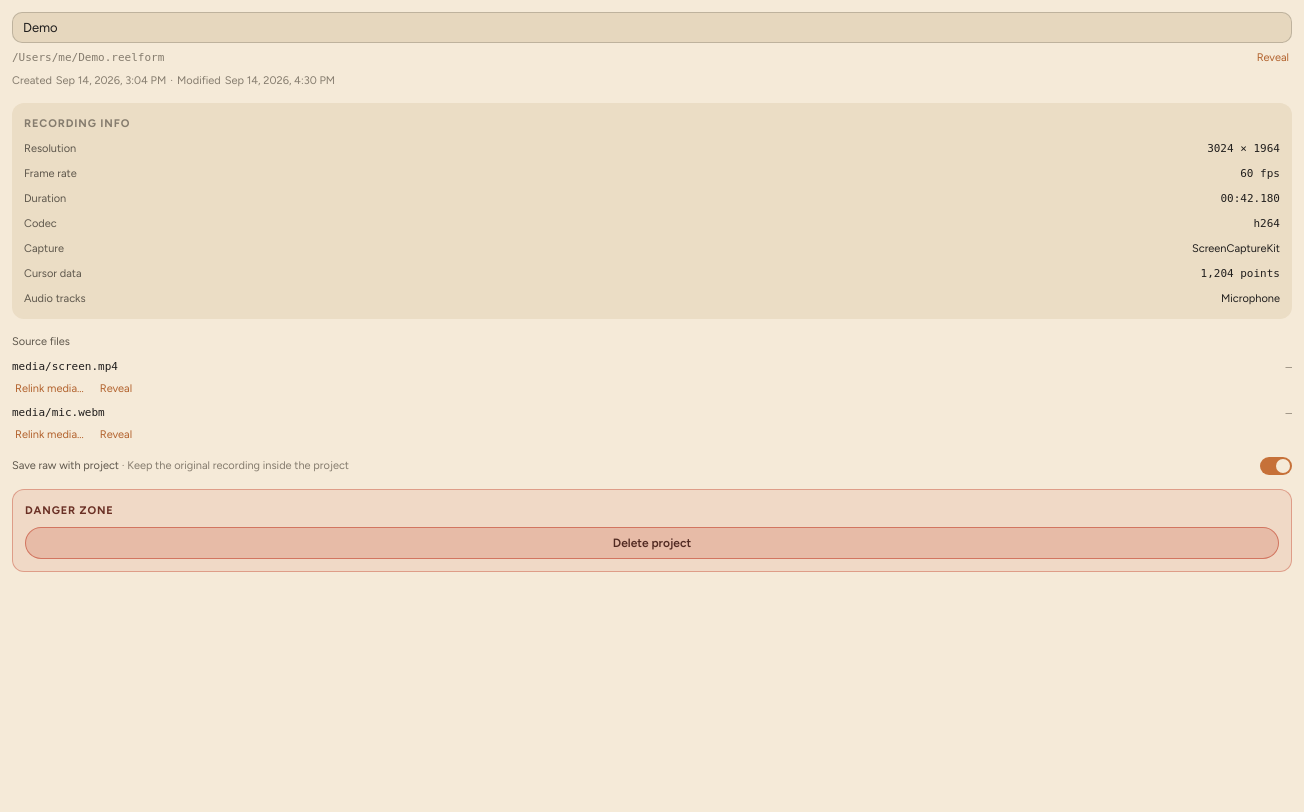
Scenario: Project tab › reports relink validation errors
Click the button "Relink media…" below "media/screen.mp4" at (49, 389), box [12,381,87,396]
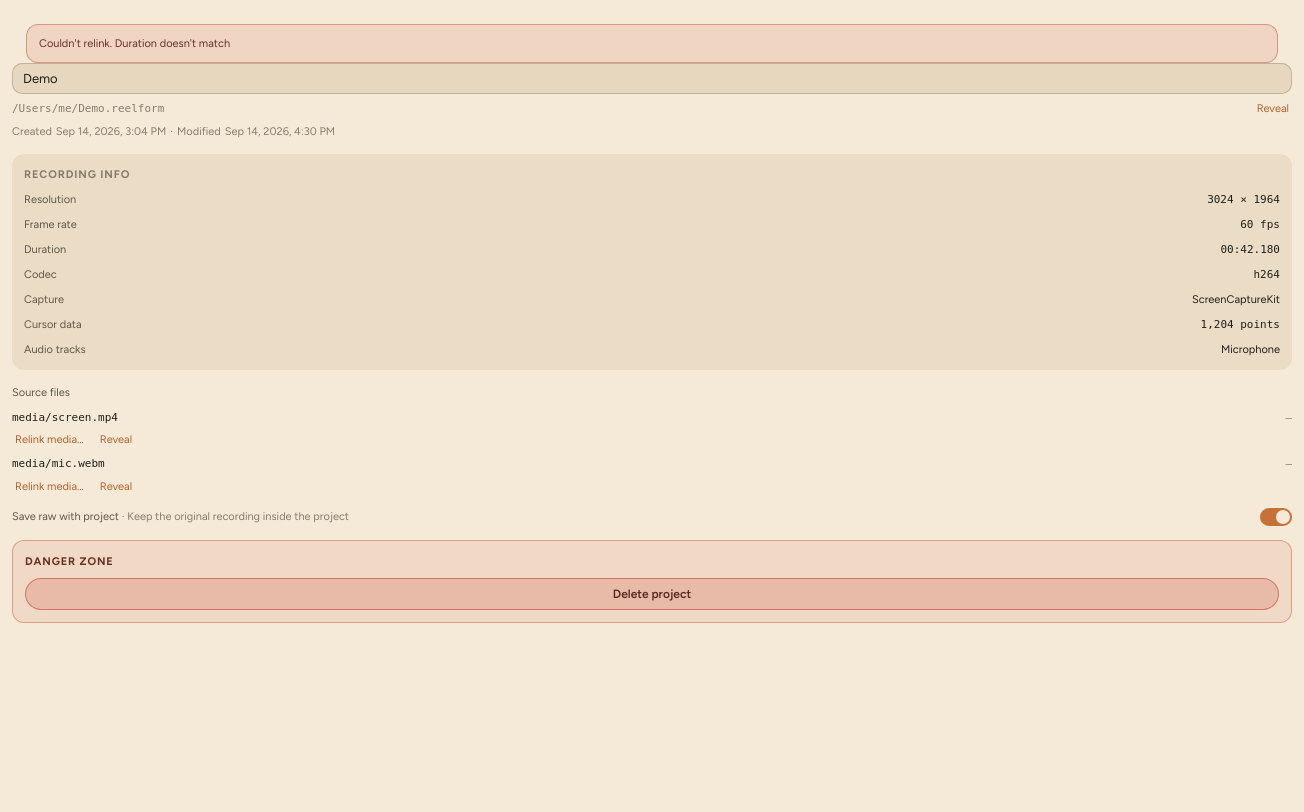
expect the message reads "Couldn't relink. Duration doesn't match": met, box [39,37,230,50]
